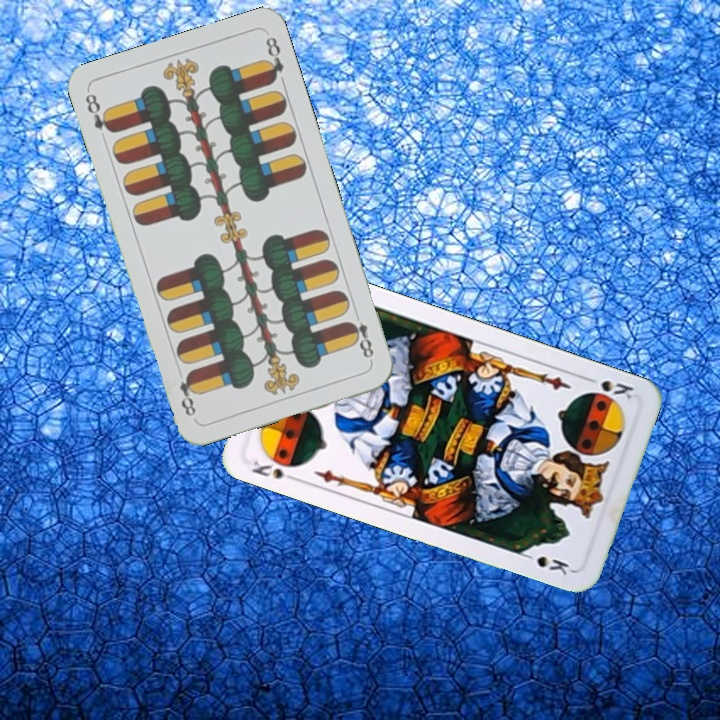E8: (344, 307, 376, 365), (81, 89, 117, 136)
SK: (580, 372, 636, 404), (247, 456, 302, 485)
